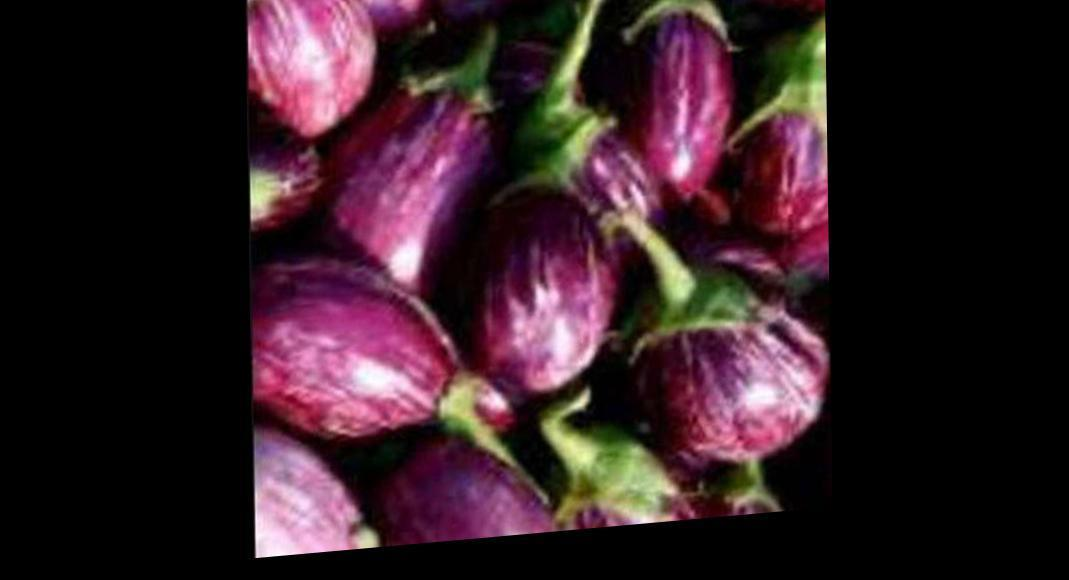eggplant: (270, 0, 791, 560)
